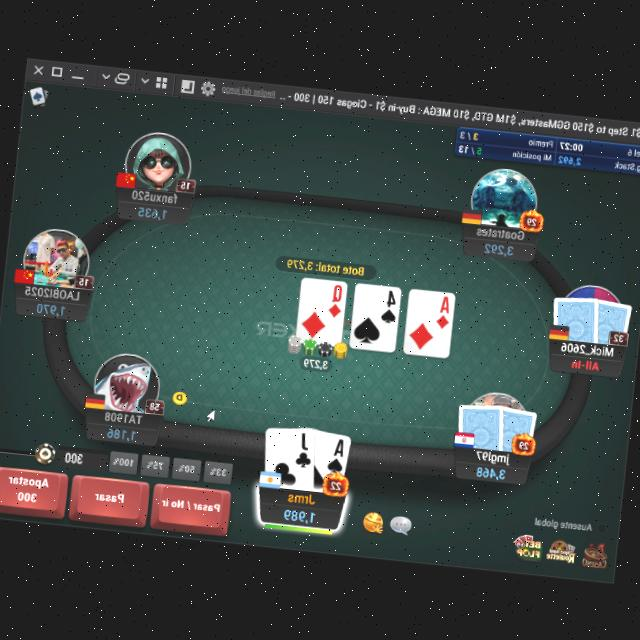4s: (378, 287, 399, 325)
Ad: (432, 294, 452, 330)
Qd: (326, 282, 344, 319)
all_in_symbol: (570, 356, 600, 370)
bet_text: (302, 352, 329, 370)
card_back: (453, 396, 509, 451), (548, 288, 602, 342), (491, 402, 538, 456), (585, 295, 634, 346)
dealer: (170, 386, 189, 405)
hero_active: (0, 458, 234, 535)
pot_text: (285, 256, 364, 276)
stack_text: (281, 503, 318, 525), (105, 422, 138, 441), (136, 202, 168, 220), (481, 238, 514, 255), (34, 298, 66, 315), (474, 462, 506, 478)
